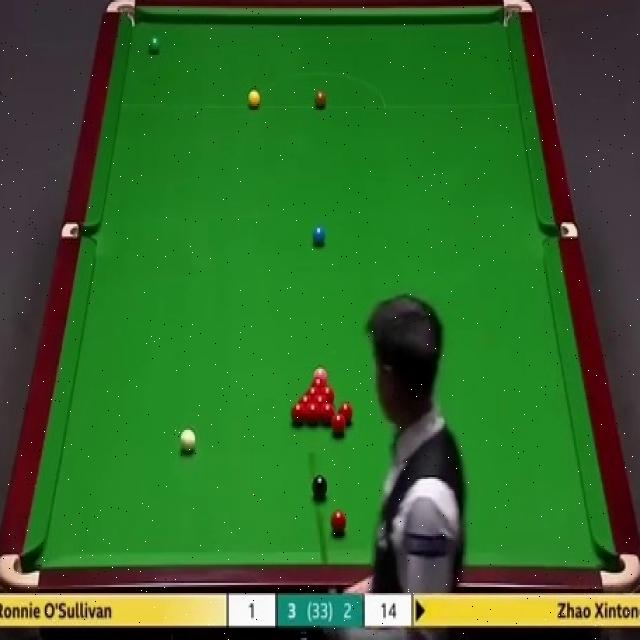black-ball: (312, 475, 328, 501)
blue-ball: (312, 226, 326, 246)
brown-ball: (314, 91, 326, 110)
green-ball: (149, 37, 160, 55)
pink-ball: (312, 365, 330, 378)
red-ball: (330, 509, 345, 536), (320, 403, 336, 426), (290, 402, 305, 425), (338, 402, 352, 426), (332, 414, 346, 437), (306, 402, 320, 423), (321, 385, 335, 401), (308, 374, 326, 385), (305, 385, 320, 395), (312, 394, 328, 403), (298, 394, 312, 404)
white-ball: (178, 426, 196, 453)
yellow-ball: (248, 89, 260, 108)
